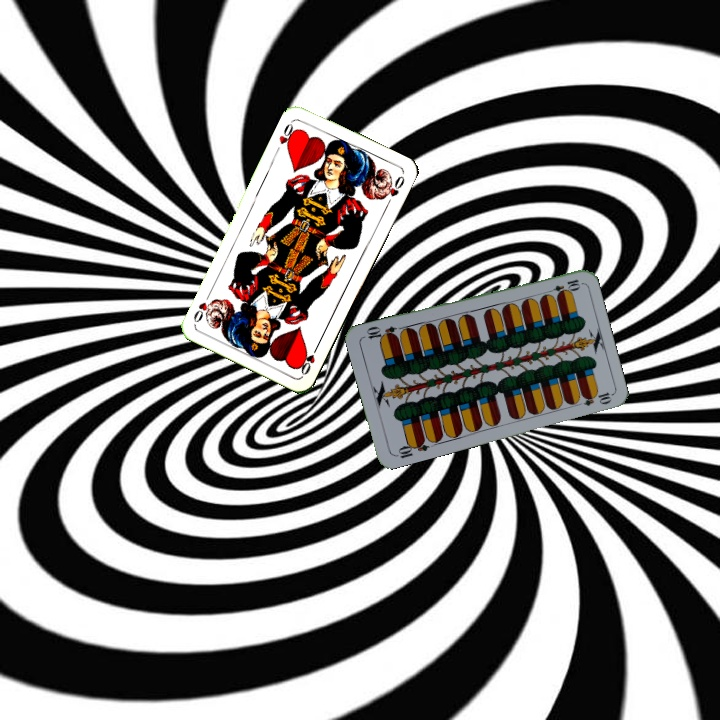E10: (391, 435, 431, 461), (542, 275, 583, 297)
HO: (296, 340, 322, 378), (275, 117, 300, 152)
